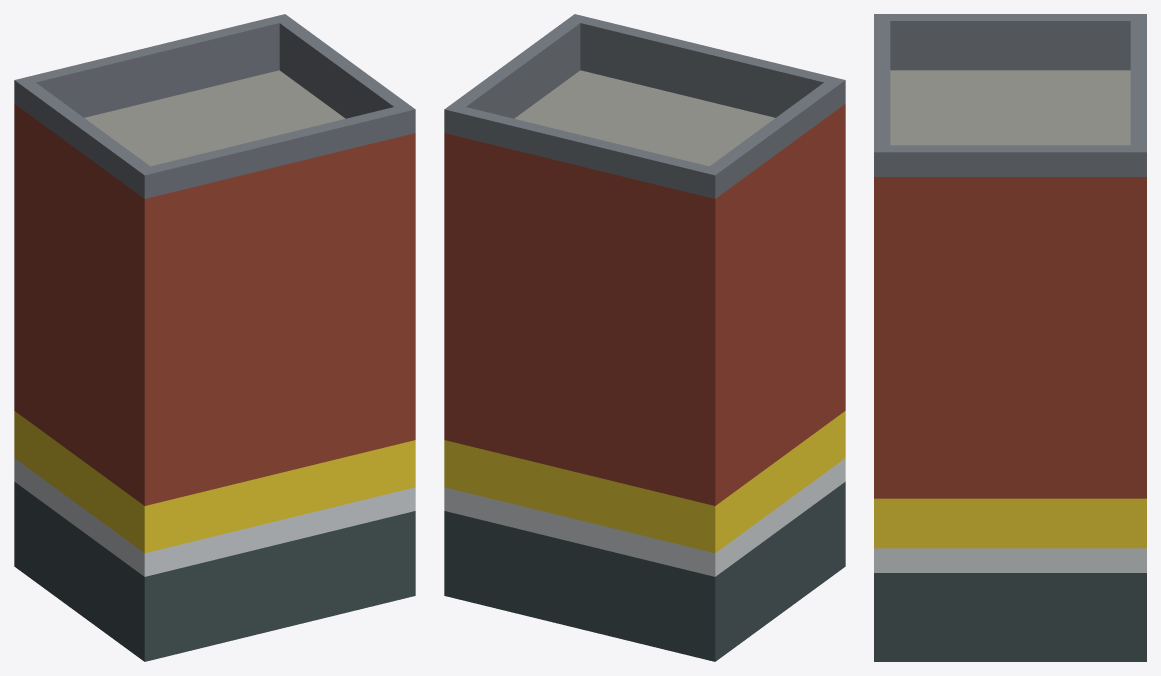
File: far.fbx
The picture shows the model from 3 angles, left to right: view 1: azimuth 30°, elevation 25°; view 2: azimuth 150°, elevation 25°; view 3: azimuth 270°, elevation 25°; orthographic projection. The views are drawn at different scales.
Parts seen in each view (by area): view 1: a2019/0/far; view 2: a2019/0/far; view 3: a2019/0/far.
Part boxes in pixels (x1,y1,x2,y2): a2019/0/far: (14,14,415,661); a2019/0/far: (444,14,845,661); a2019/0/far: (874,14,1146,661).
Bounding box in the file's own units: 6 × 10.3 × 5.
